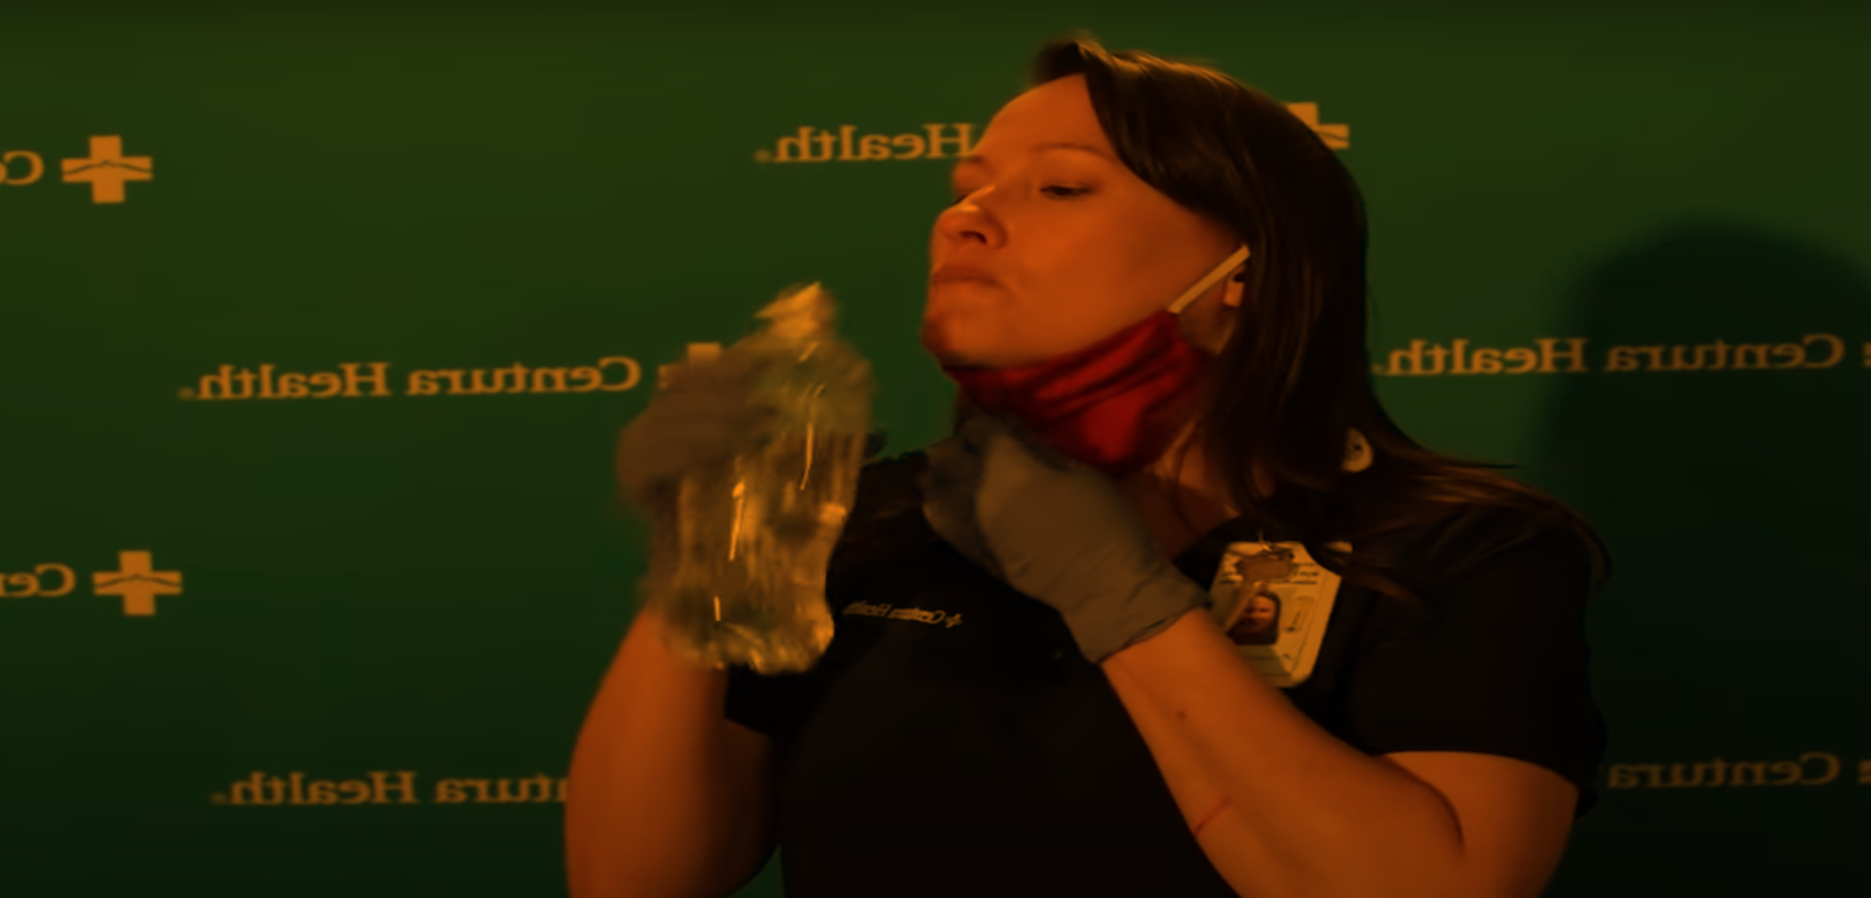mask_weared_incorrect: (920, 40, 1363, 477)
